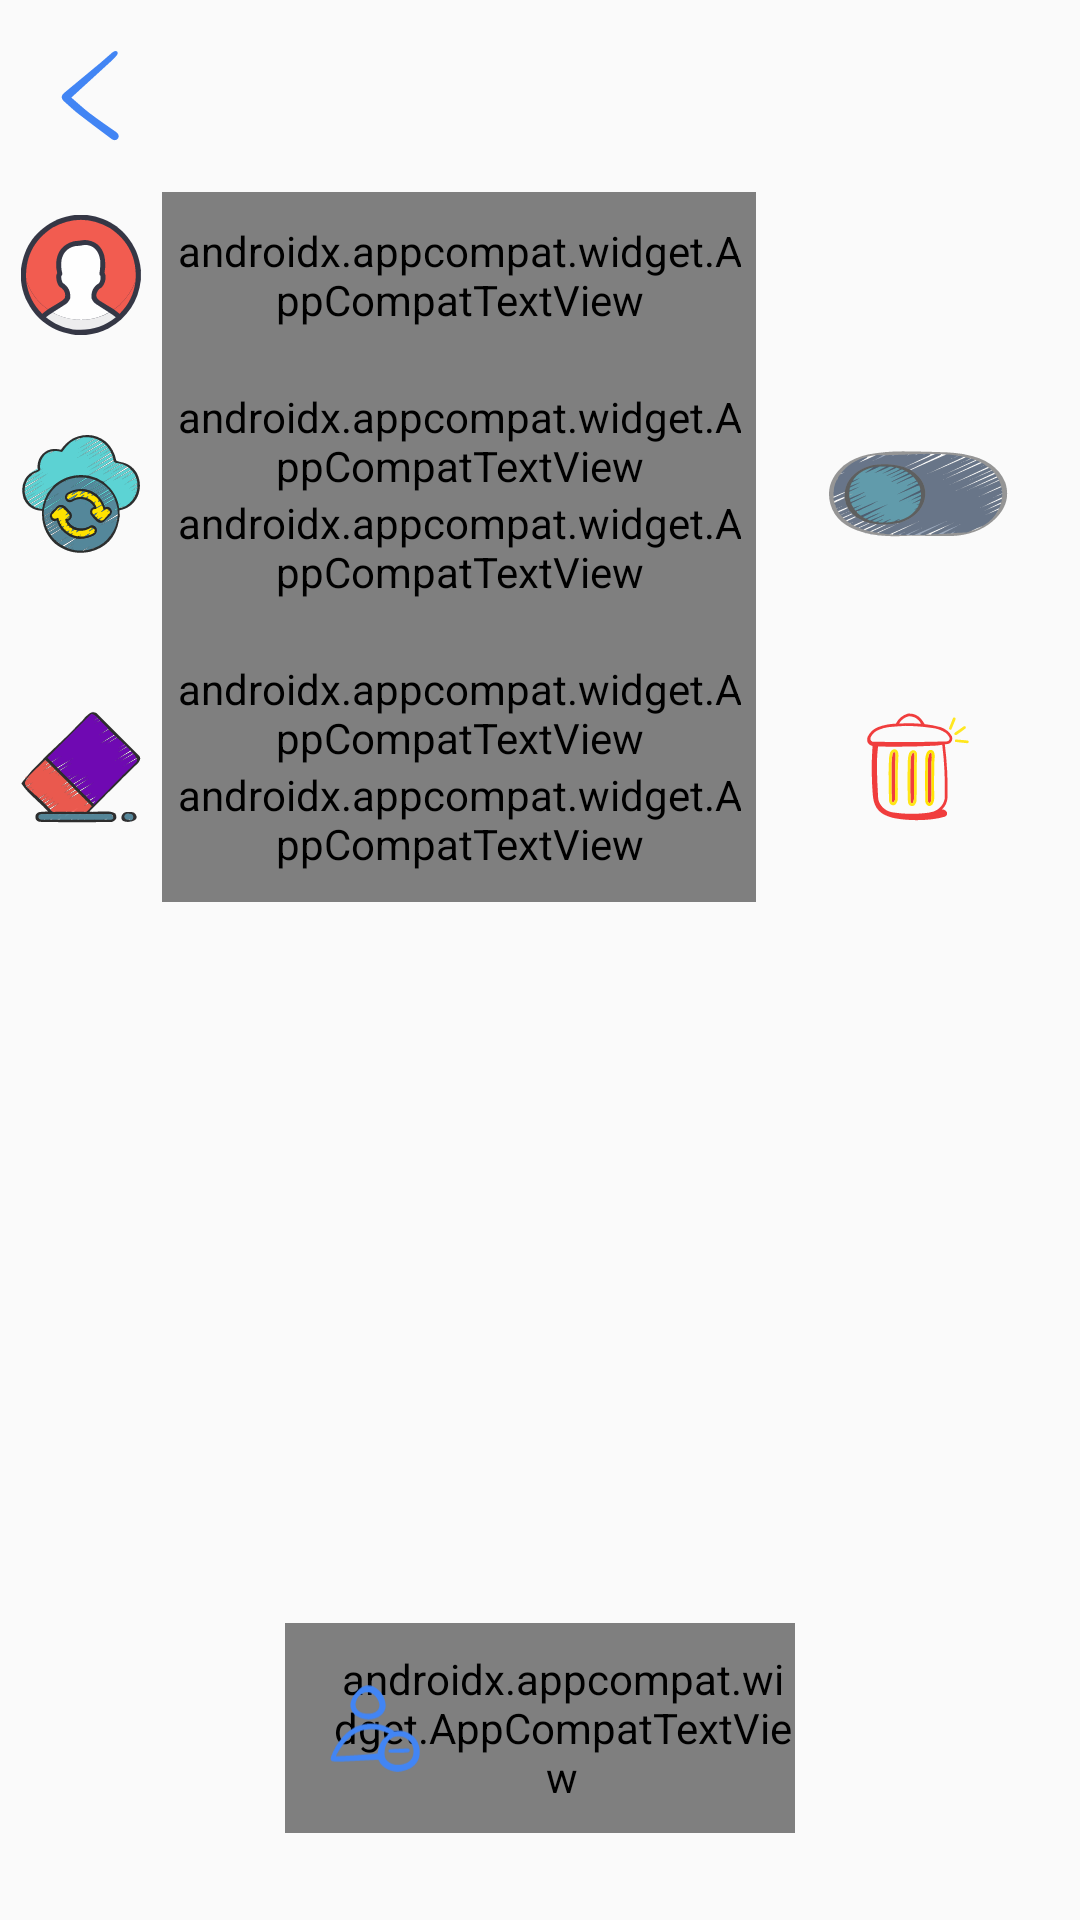

Where icons sit on this 1080x1920 app screen, as (x1, y1, x2, y2):
back: (61, 51, 119, 140)
delete: (867, 713, 969, 821)
erase: (21, 712, 141, 823)
sync: (22, 435, 140, 553)
